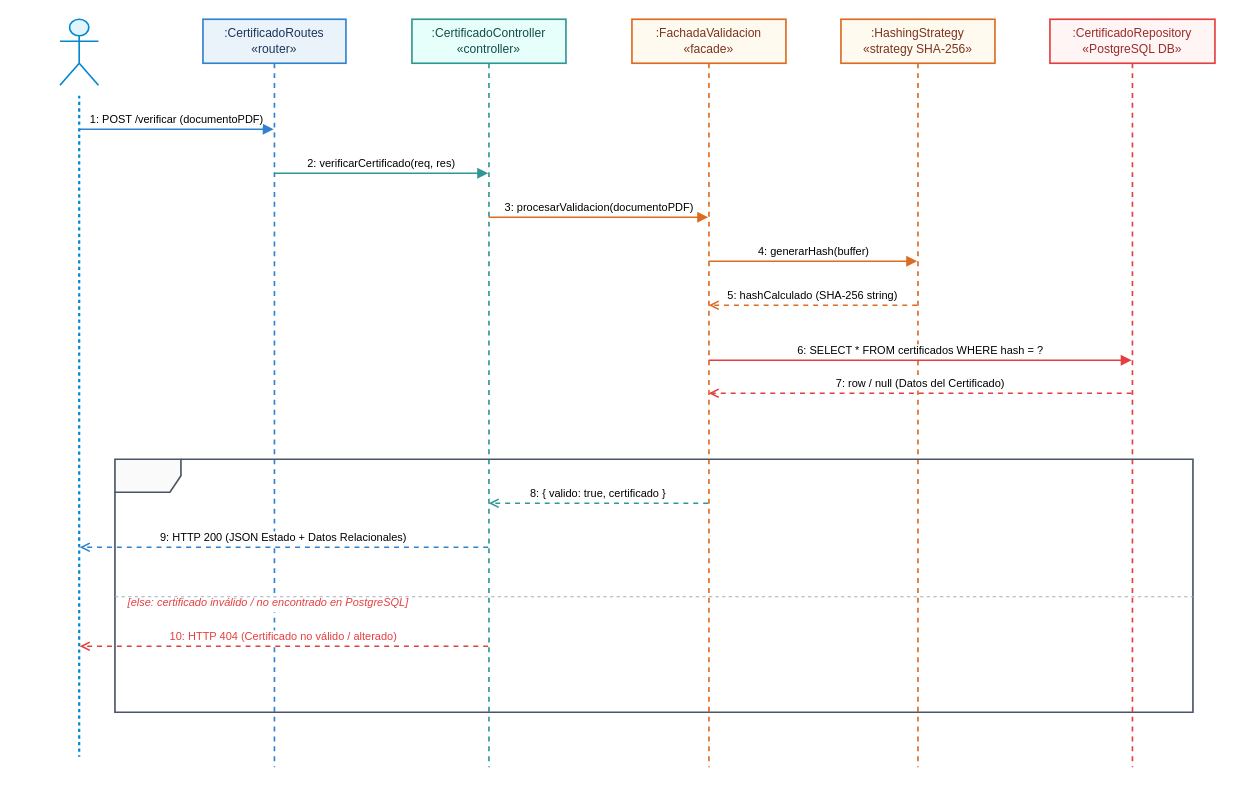
Some shapes in this 1235 by 788 pixel diagram are drawn without their labels. The shapes that lost their labels are listed below. From the top down, each one's box as (x1, y1, x2, y2) in pixels, then its label:
(59, 18, 99, 86): Usuario / Web Publica
(114, 458, 1193, 713): alt [si certificado existe en BD relacional]
